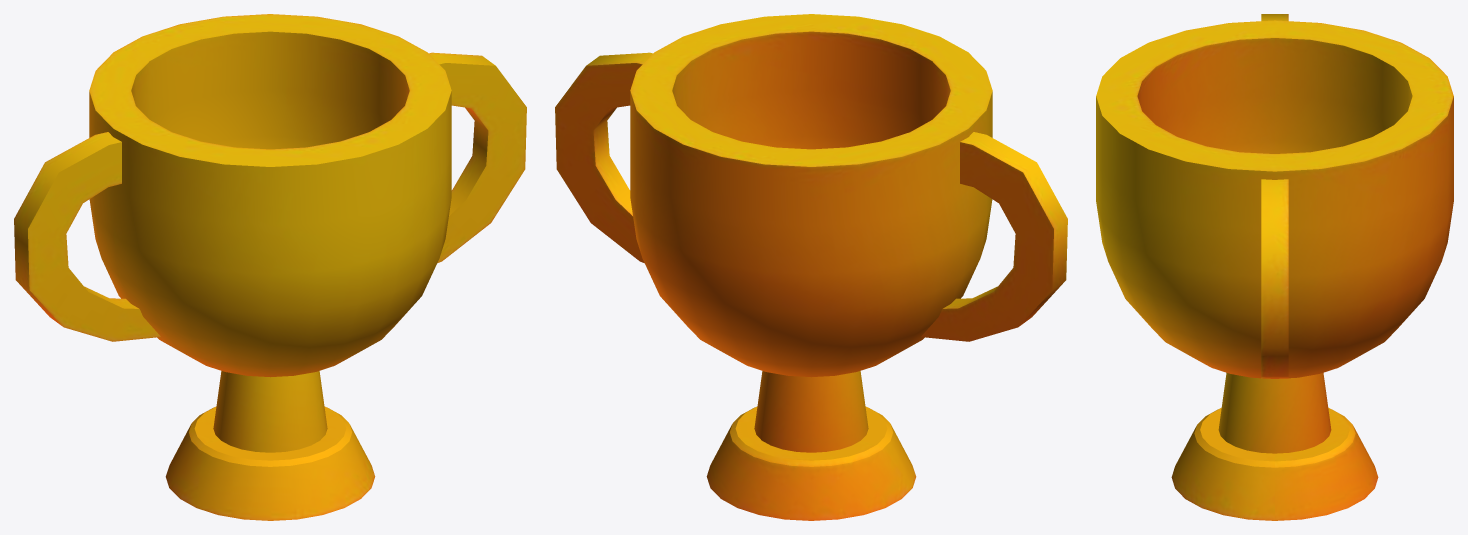
Rendered from trophy.glb.
3 views of the same model, side by side, from view 1: azimuth 30°, elevation 25°; view 2: azimuth 150°, elevation 25°; view 3: azimuth 270°, elevation 25° (orthographic).
Size of the model in its own units: 1 by 0.7394 by 0.6287.
Materials: 1 (1 with a texture image).
